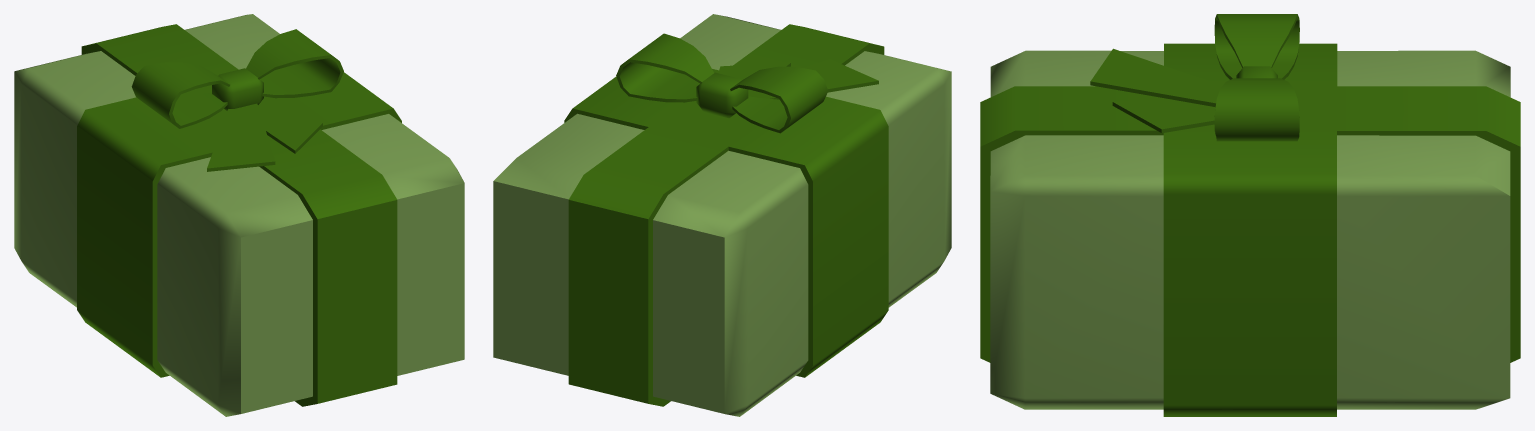
File: Gift_11_231109.glb
The picture shows the model from 3 angles, left to right: view 1: azimuth 30°, elevation 25°; view 2: azimuth 150°, elevation 25°; view 3: azimuth 270°, elevation 25°; orthographic projection. The views are drawn at different scales.
Parts seen in each view (by area): view 1: Gift_11; view 2: Gift_11; view 3: Gift_11.
Boxes of the visible parts, x1,y1,x2,y2 form: Gift_11: [14, 14, 464, 416]; Gift_11: [493, 14, 951, 416]; Gift_11: [980, 14, 1520, 416].
Size of the model in its own units: 0.7445 by 0.7408 by 1.22.
1 material, 1 textured.
